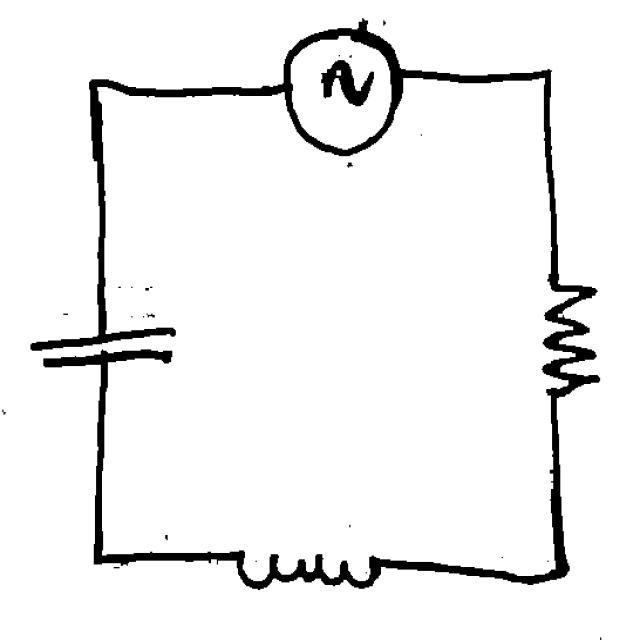ac: (279, 20, 409, 162)
